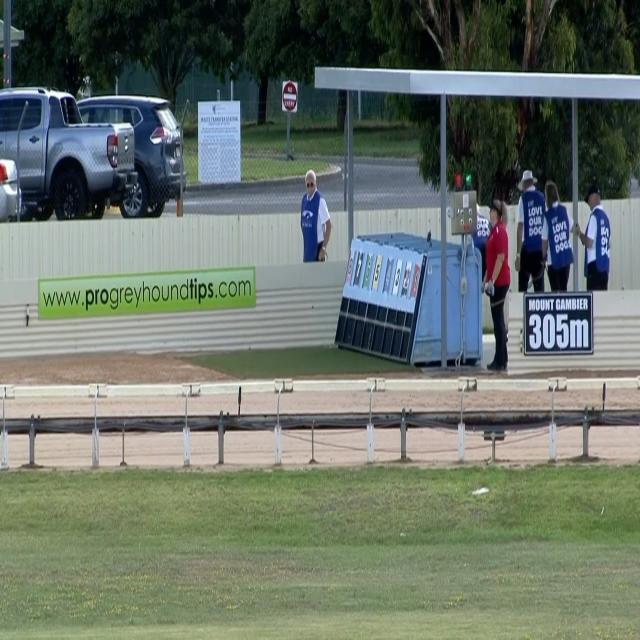rail: (0, 408, 640, 434)
